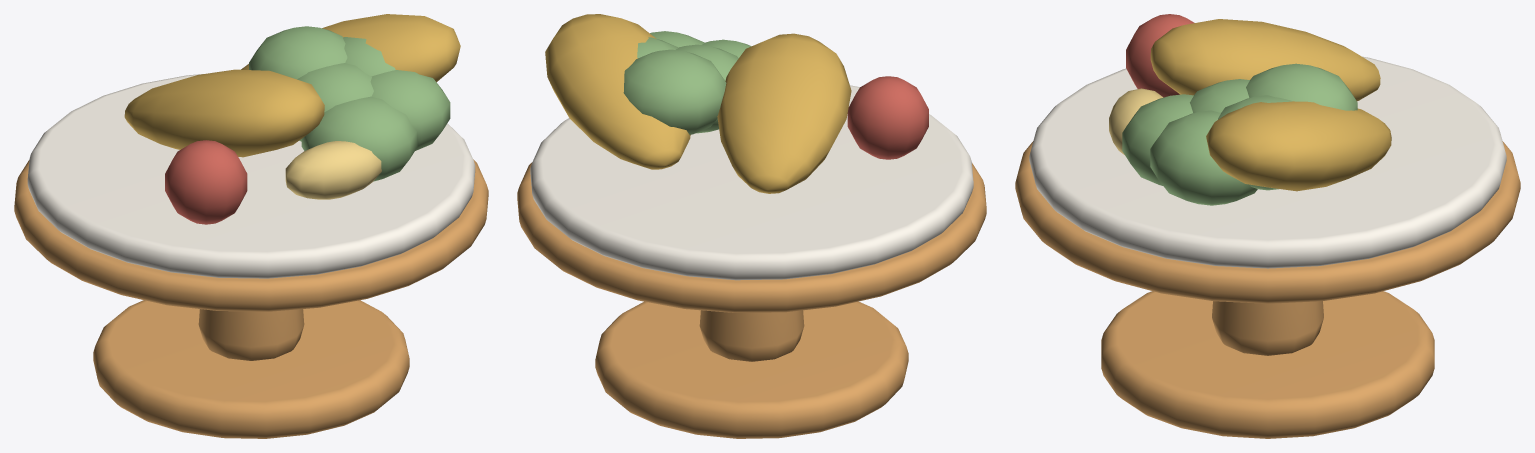
The model's file is fried_fish_plate.glb.
3 views of the same model, side by side, from view 1: azimuth 30°, elevation 25°; view 2: azimuth 150°, elevation 25°; view 3: azimuth 270°, elevation 25° (orthographic). The views are drawn at different scales.
Visible parts, largest first — view 1: fried_fish_plate_mesh; view 2: fried_fish_plate_mesh; view 3: fried_fish_plate_mesh.
Part boxes in pixels (x1,y1,x2,y2): fried_fish_plate_mesh: [14, 14, 488, 438]; fried_fish_plate_mesh: [517, 14, 986, 438]; fried_fish_plate_mesh: [1015, 14, 1520, 438].
Size of the model in its own units: 0.36 by 0.2665 by 0.36.
